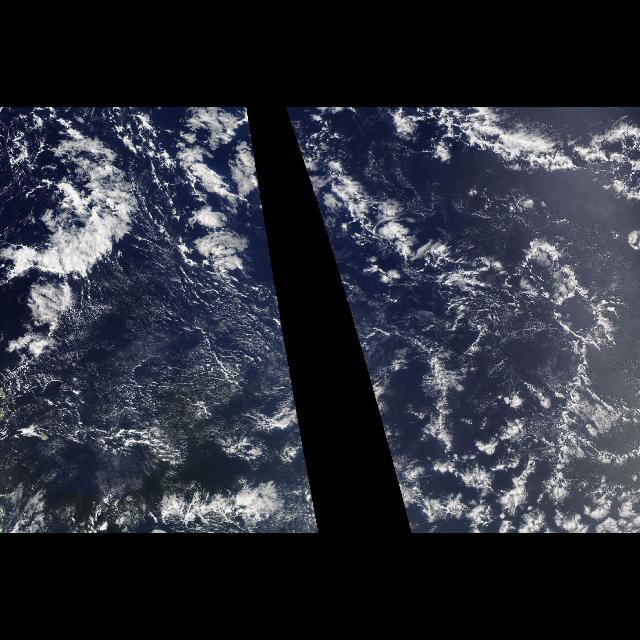Flower: (405, 436, 639, 534)
Gravel: (325, 235, 635, 525), (114, 107, 302, 437)
Sugar: (52, 266, 294, 492)
